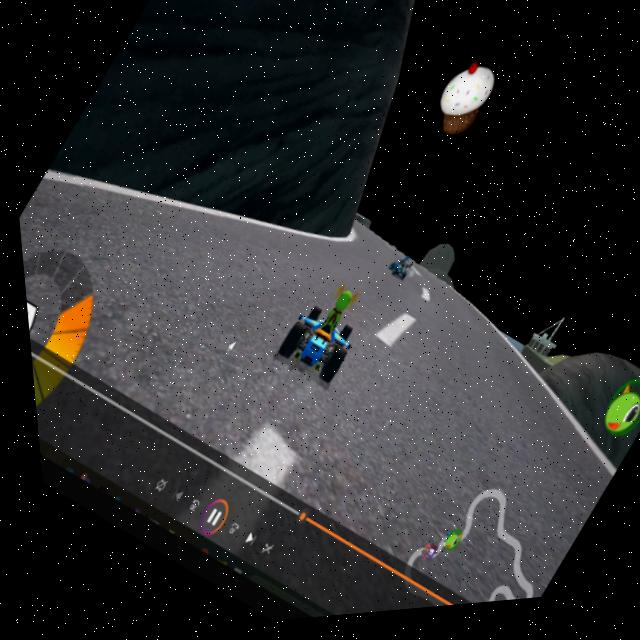enemy_kart: (375, 255, 413, 295)
player_kart: (253, 272, 380, 409)
track: (263, 274, 549, 574), (341, 226, 391, 271)
